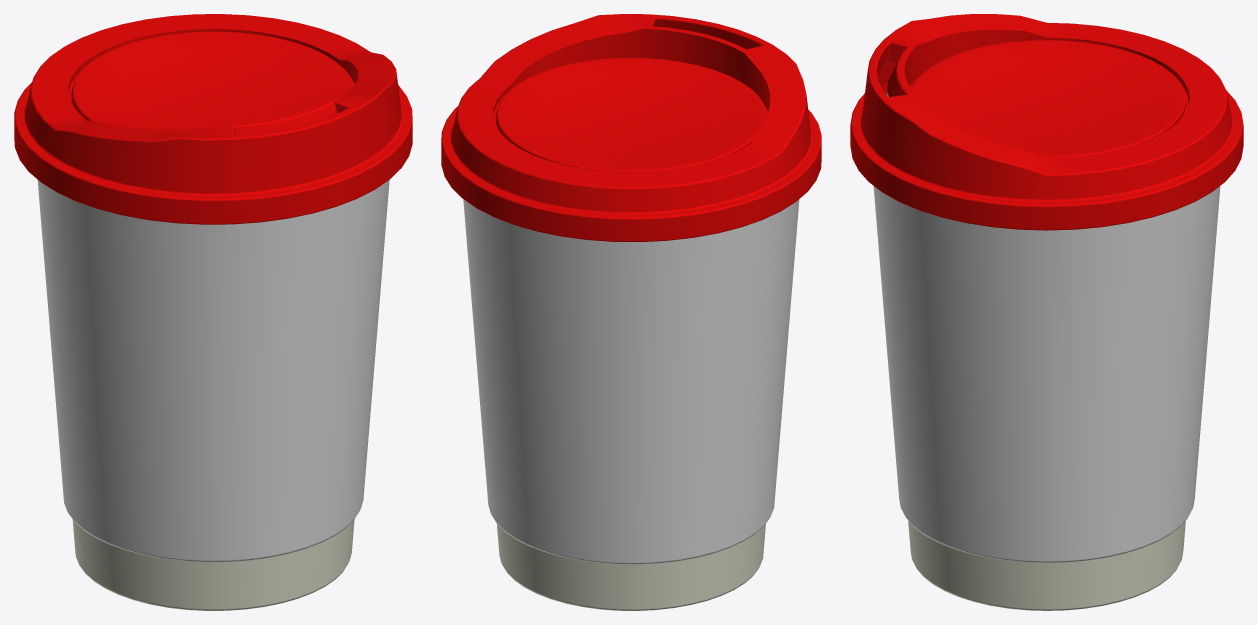
The model's file is Mikel.fbx.
The picture shows the model from 3 angles, left to right: view 1: azimuth 30°, elevation 25°; view 2: azimuth 150°, elevation 25°; view 3: azimuth 270°, elevation 25°; orthographic projection. The views are drawn at different scales.
Parts seen in each view (by area): view 1: cup, red+cup; view 2: cup, red+cup; view 3: cup, red+cup.
Part boxes in pixels (<box>): cup: <box>37,180,389,610</box>; red+cup: <box>14,14,412,224</box>; cup: <box>463,199,799,610</box>; red+cup: <box>441,14,821,242</box>; cup: <box>873,93,1220,610</box>; red+cup: <box>850,14,1243,230</box>.
Size of what is drawn, in the model's own units: 12.58 by 17.12 by 12.58.
